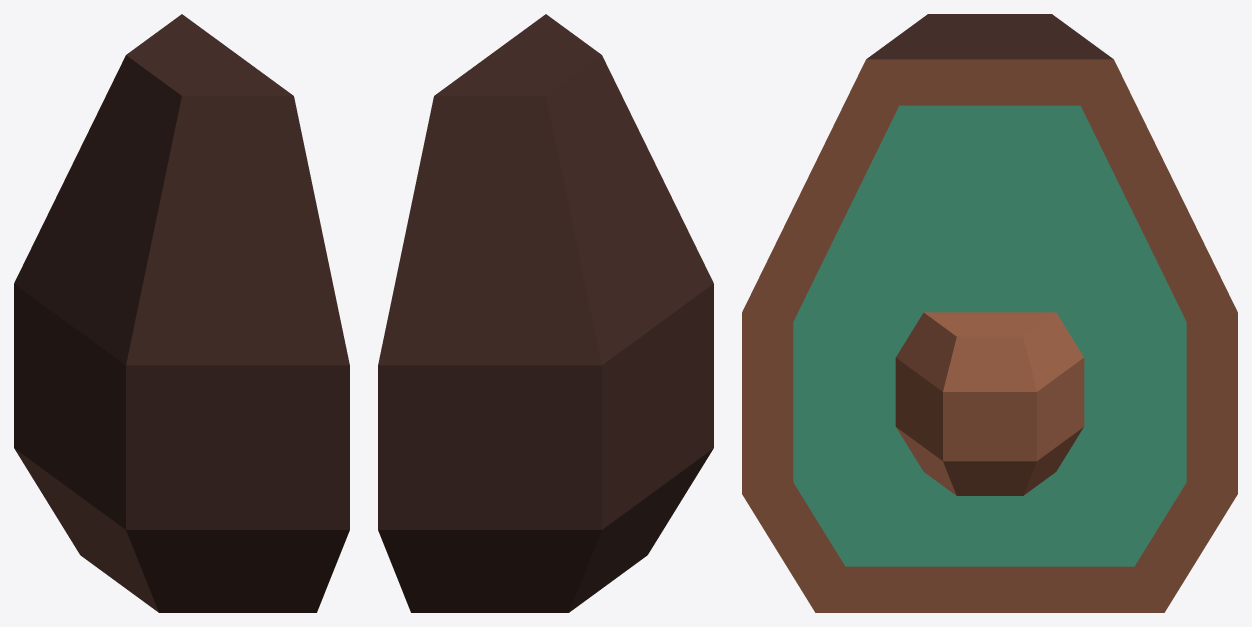
File: avocadoHalf.fbx
The picture shows the model from 3 angles, left to right: view 1: azimuth 30°, elevation 25°; view 2: azimuth 150°, elevation 25°; view 3: azimuth 270°, elevation 25°; orthographic projection. The views are drawn at different scales.
Parts seen in each view (by area): view 1: avocadoHalf; view 2: avocadoHalf; view 3: avocadoHalf, pit.
Boxes of the visible parts, x1=… form: avocadoHalf: x1=14, y1=14, x2=349, y2=612; avocadoHalf: x1=378, y1=14, x2=713, y2=612; avocadoHalf: x1=742, y1=14, x2=1237, y2=612; pit: x1=895, y1=312, x2=1084, y2=495.
Size of the model in its own units: 1.04 by 2.14 by 1.73.
